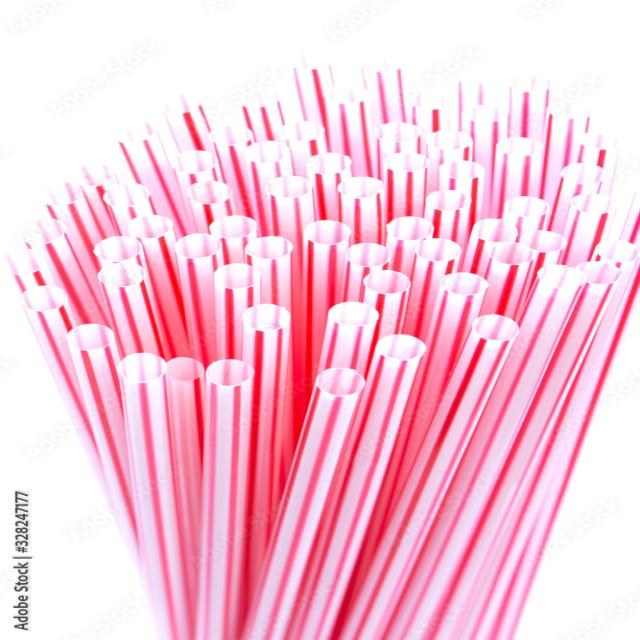plastic: (239, 352, 381, 640)
